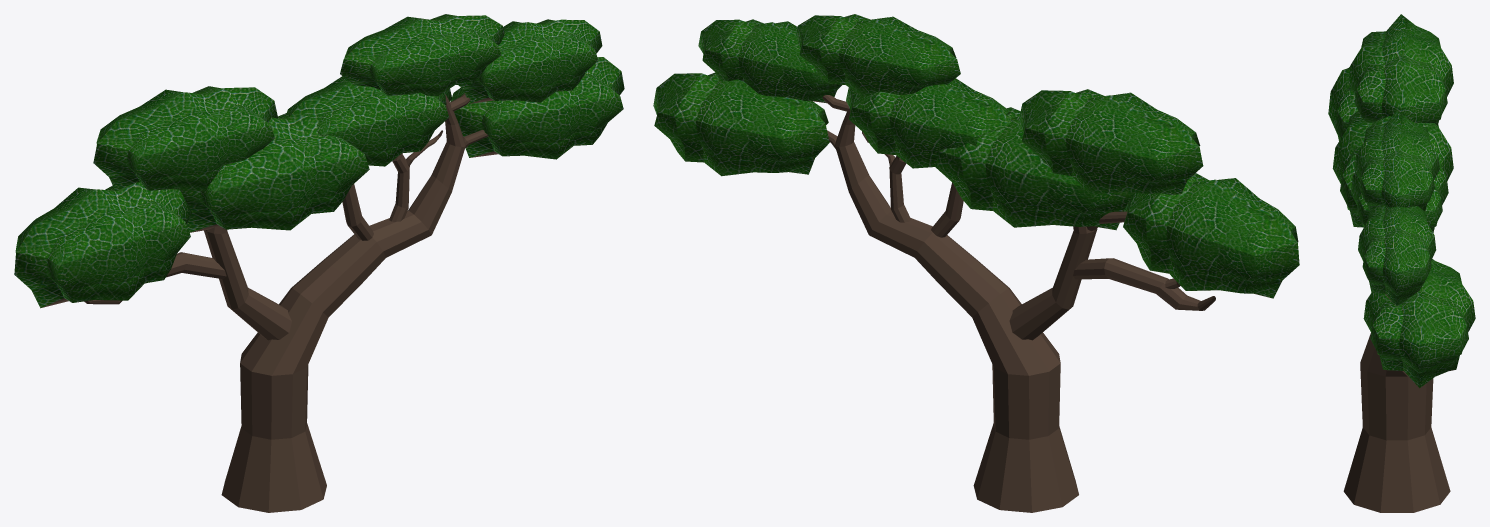
Rendered from Africa_Tree_1.fbx.
3 views of the same model, side by side, from view 1: azimuth 30°, elevation 25°; view 2: azimuth 150°, elevation 25°; view 3: azimuth 270°, elevation 25° (orthographic).
Parts seen in each view (by area): view 1: Tree_1; view 2: Tree_1; view 3: Tree_1.
Part boxes in pixels (x1,y1,x2,y2): Tree_1: (14, 14, 624, 512); Tree_1: (653, 14, 1299, 512); Tree_1: (1328, 14, 1475, 512).
Bounding box in the file's own units: 11.33 × 7.49 × 2.32.
